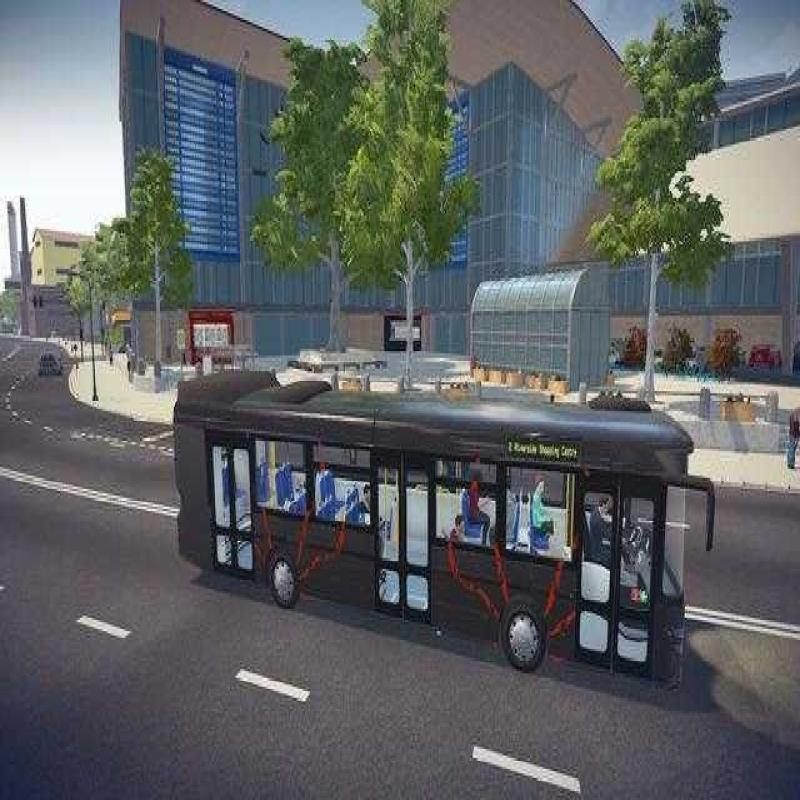bus: (172, 316, 726, 744)
